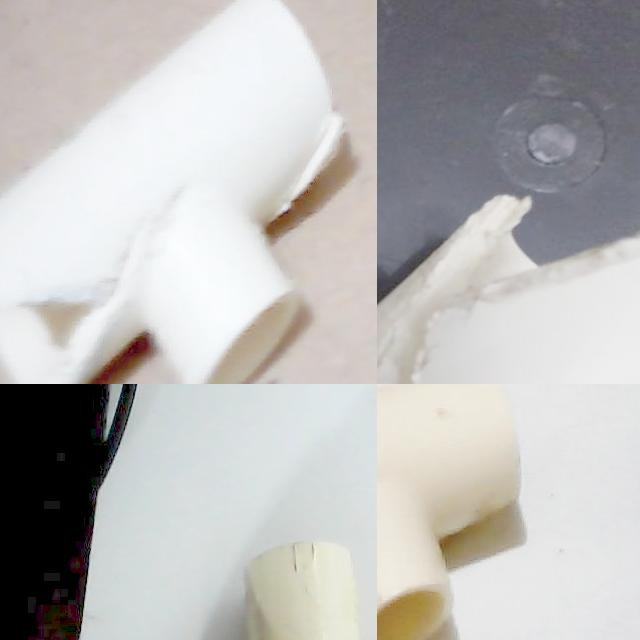Defective: (0, 229, 149, 384), (465, 190, 640, 308), (266, 106, 367, 226), (432, 256, 479, 352), (377, 309, 433, 384)
T Joint: (0, 0, 346, 384), (377, 384, 521, 640)
